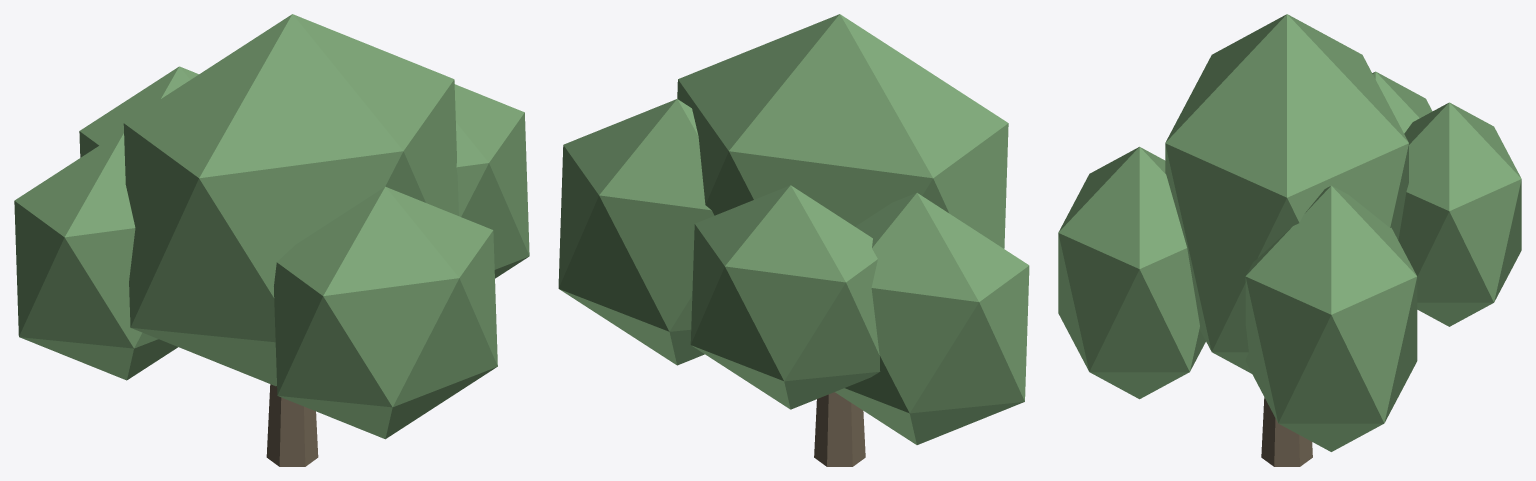
The model's file is tree-shrub.glb.
The picture shows the model from 3 angles, left to right: view 1: azimuth 30°, elevation 25°; view 2: azimuth 150°, elevation 25°; view 3: azimuth 270°, elevation 25°; orthographic projection.
Visible parts, largest first — view 1: TreeShrub; view 2: TreeShrub; view 3: TreeShrub.
Boxes of the visible parts, x1=… form: TreeShrub: x1=14, y1=14, x2=529, y2=466; TreeShrub: x1=558, y1=14, x2=1029, y2=466; TreeShrub: x1=1058, y1=14, x2=1521, y2=466.
Bounding box in the file's own units: 0.7575 × 0.6635 × 0.6282.
